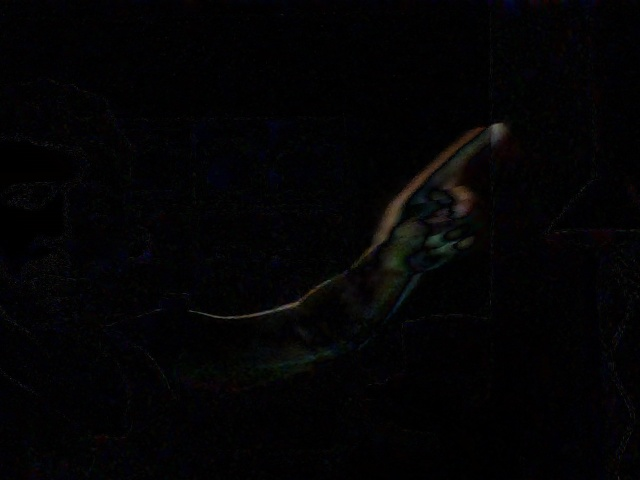hand_po: (385, 110, 528, 272)
